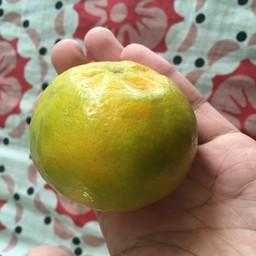Good_orange: (27, 55, 202, 213)
